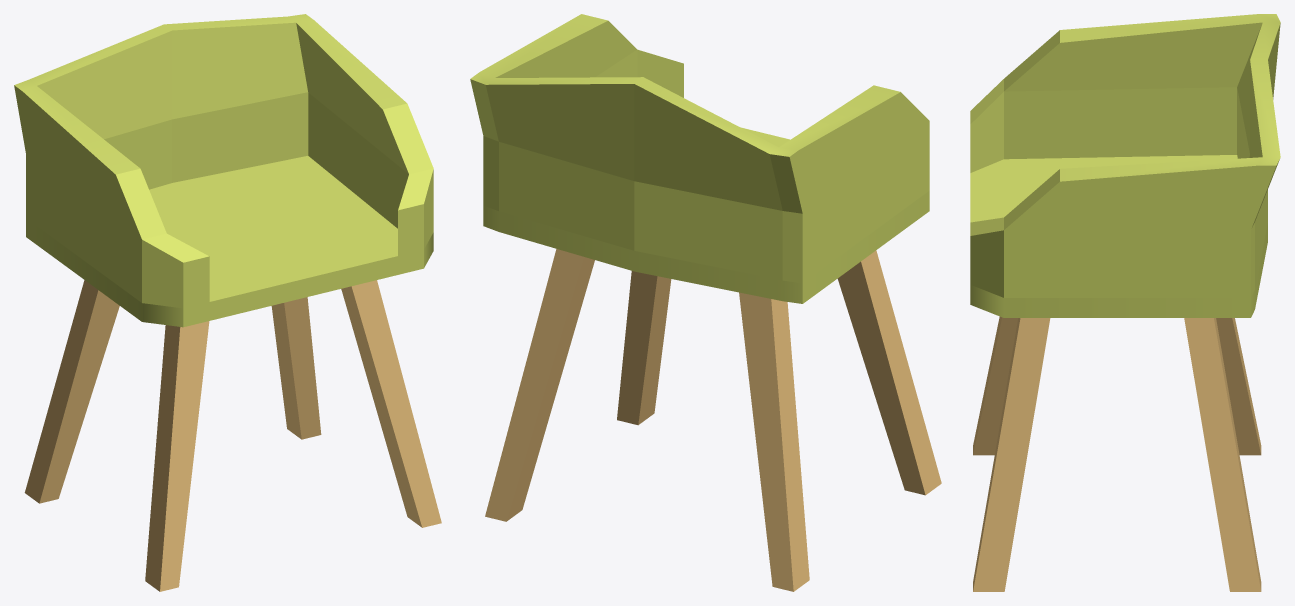
The model's file is Chair_Level_02.fbx.
3 renders of one model, left to right at view 1: azimuth 30°, elevation 25°; view 2: azimuth 150°, elevation 25°; view 3: azimuth 270°, elevation 25°, orthographic. The views are drawn at different scales.
Parts seen in each view (by area): view 1: Chair_Level_02; view 2: Chair_Level_02; view 3: Chair_Level_02.
Part boxes in pixels (x1,y1,x2,y2): Chair_Level_02: [14, 14, 441, 591]; Chair_Level_02: [470, 14, 941, 591]; Chair_Level_02: [970, 14, 1280, 591].
Bounding box in the file's own units: 172 × 243 × 149.
